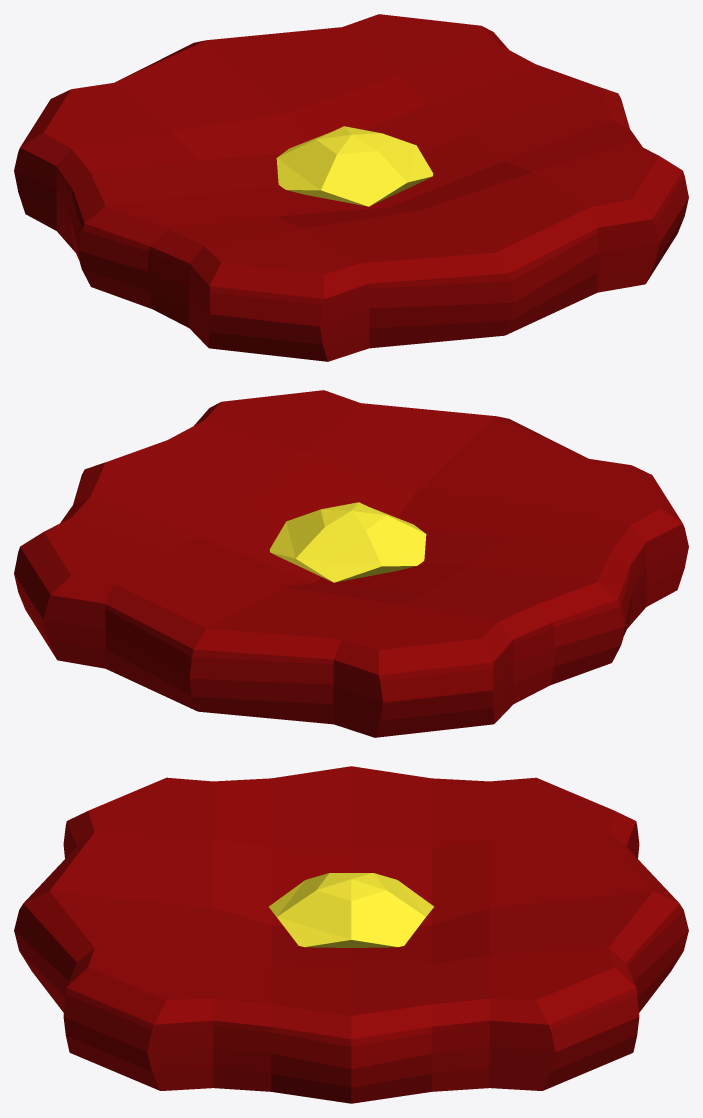
File: cushion.fbx
The picture shows the model from 3 angles, top to bottom: view 1: azimuth 30°, elevation 25°; view 2: azimuth 150°, elevation 25°; view 3: azimuth 270°, elevation 25°; orthographic projection. The views are drawn at different scales.
Parts seen in each view (by area): view 1: Cube.023, Icosphere.002; view 2: Cube.023, Icosphere.002; view 3: Cube.023, Icosphere.002.
Boxes of the visible parts, x1,y1,x2,y2 form: Cube.023: (14, 14, 688, 361); Icosphere.002: (276, 126, 433, 206); Cube.023: (14, 390, 688, 737); Icosphere.002: (269, 502, 426, 582); Cube.023: (14, 766, 688, 1103); Icosphere.002: (269, 873, 433, 947).
Size of the model in its own units: 239 by 37.3 by 246.
